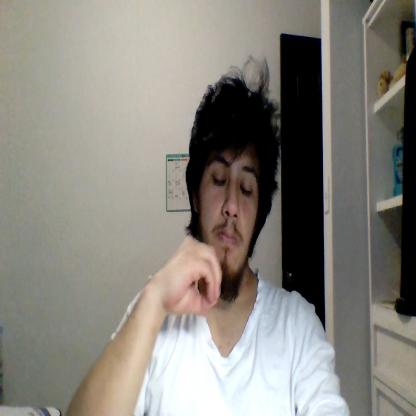O: (164, 236, 222, 315)
